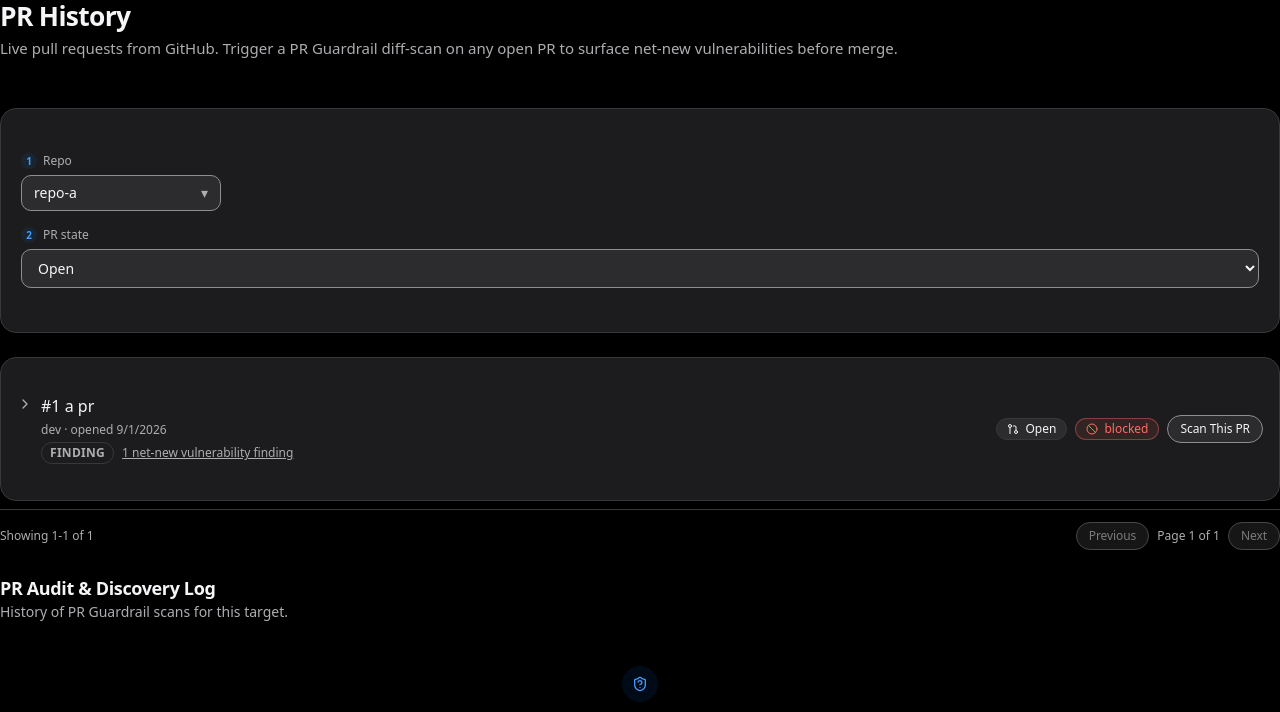
Test: expanding a PR into its findings › does not carry an expanded row across a repo switch
Check: the link "#1 a pr" is shown, box x1=41 y1=394 x2=94 y2=418
Click the button named "Show findings for PR #1" at (25, 404), box x1=17 y1=396 x2=33 y2=412
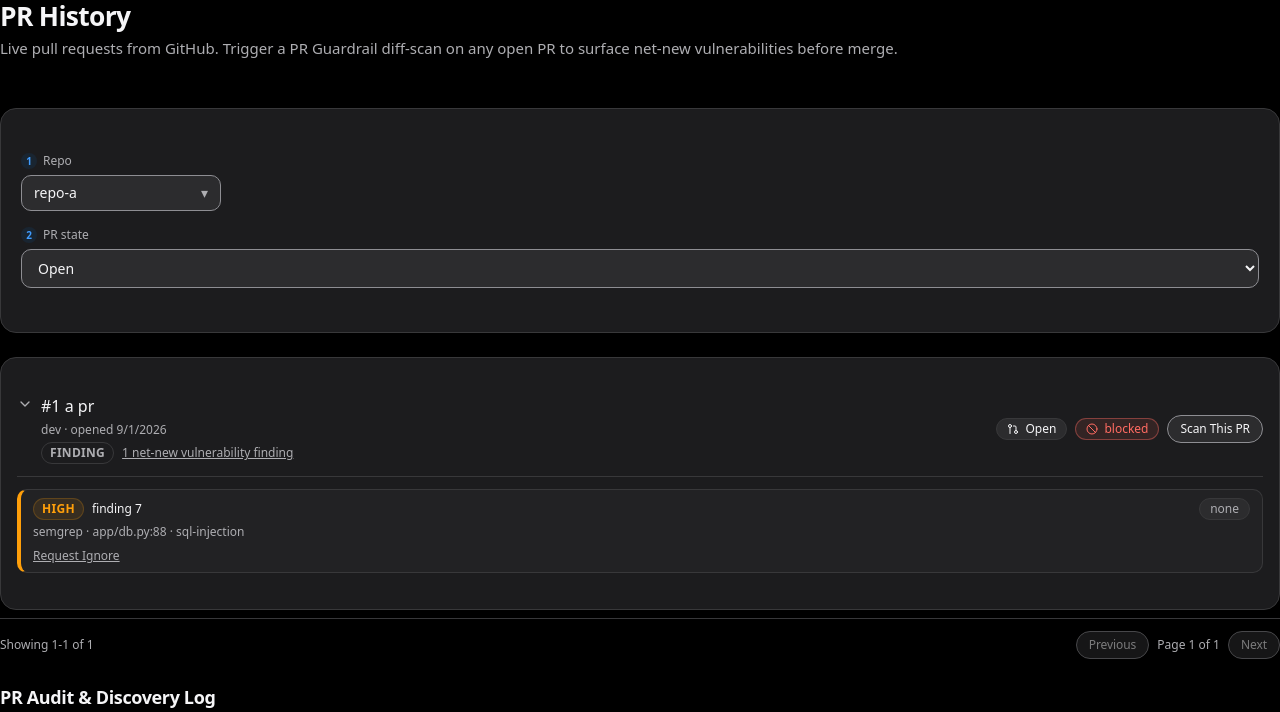
Check: the text "finding 7" is shown, box x1=92 y1=501 x2=142 y2=517
Click the button with aria-label "Repository" at (121, 193), box x1=21 y1=175 x2=221 y2=211
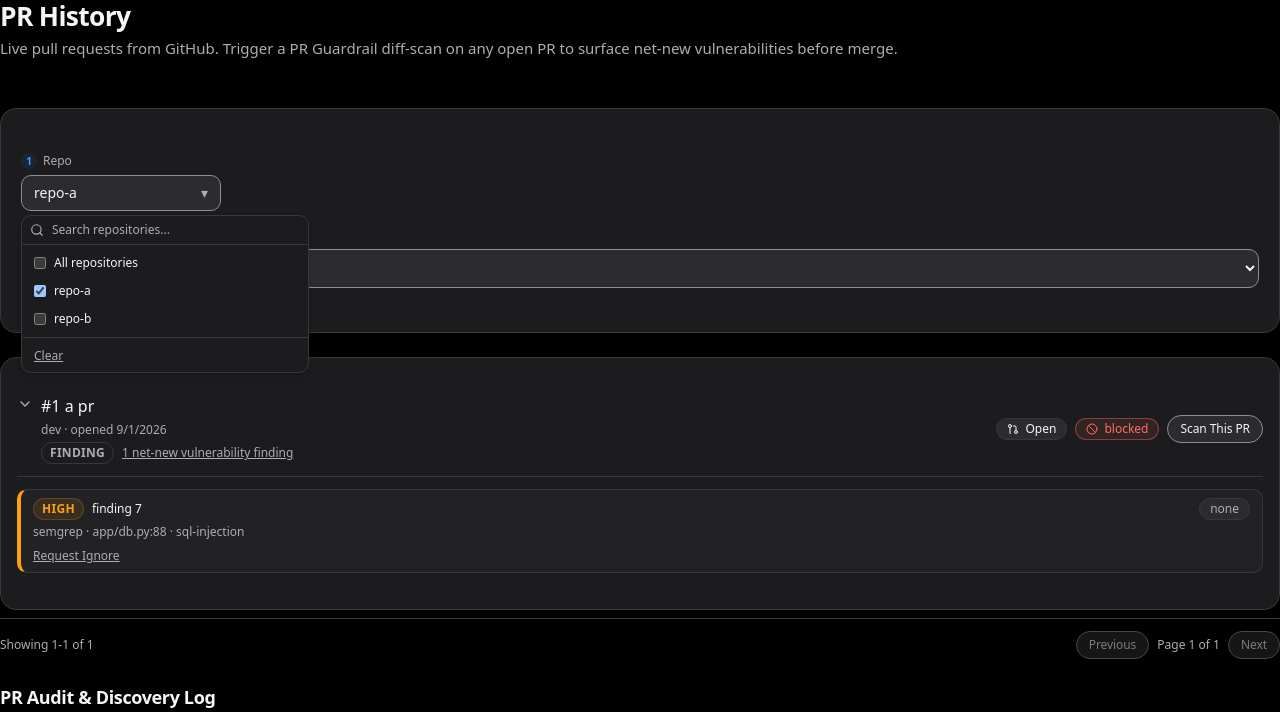
Click the checkbox labelled "repo-b" at (40, 319), box x1=34 y1=313 x2=46 y2=325
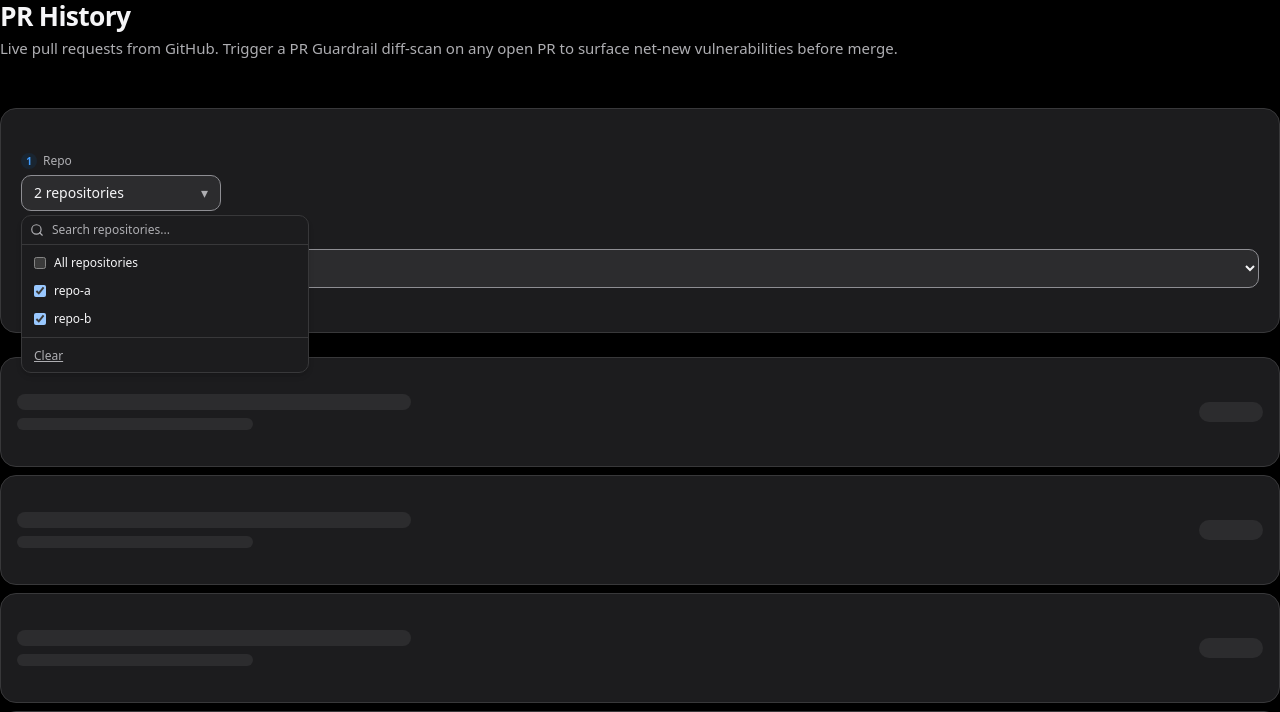
Click the checkbox labelled "repo-a" at (40, 291), box x1=34 y1=285 x2=46 y2=297
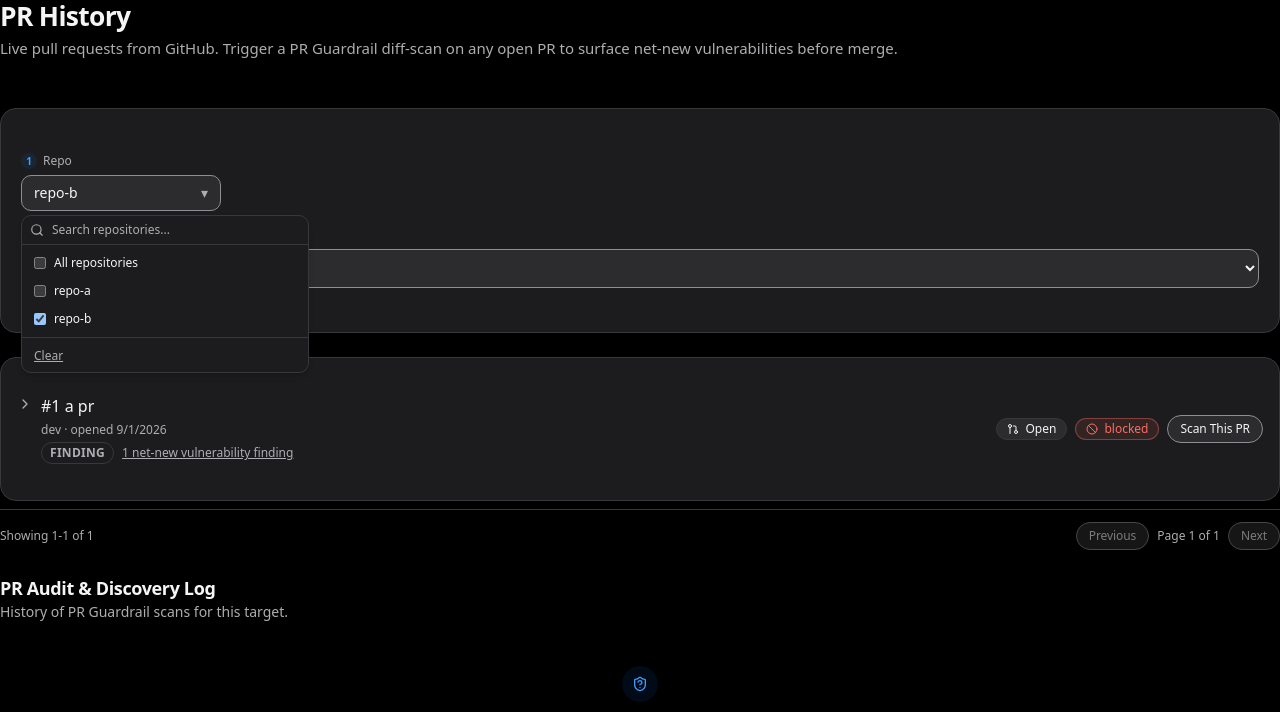
Check: the text "finding 7" is not shown
Check: the button named "Show findings for PR #1" is shown, box x1=17 y1=396 x2=33 y2=412
